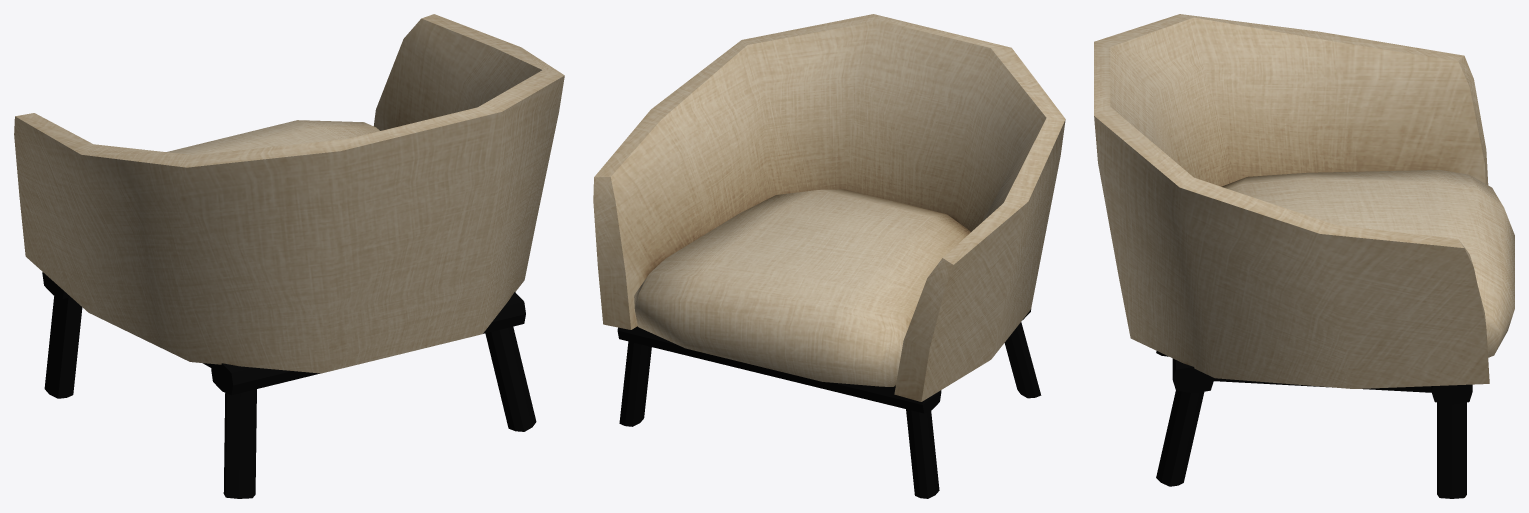
The model's file is FUR0210038.fbx.
3 views of the same model, side by side, from view 1: azimuth 30°, elevation 25°; view 2: azimuth 150°, elevation 25°; view 3: azimuth 270°, elevation 25° (orthographic). The views are drawn at different scales.
Parts seen in each view (by area): view 1: smFUR0210038; view 2: smFUR0210038; view 3: smFUR0210038.
Part boxes in pixels (x1,y1,x2,y2): smFUR0210038: (14, 14, 564, 498); smFUR0210038: (593, 14, 1065, 498); smFUR0210038: (1094, 14, 1514, 498).
Size of the model in its own units: 120 by 93.99 by 106.
1 material, 1 textured.
